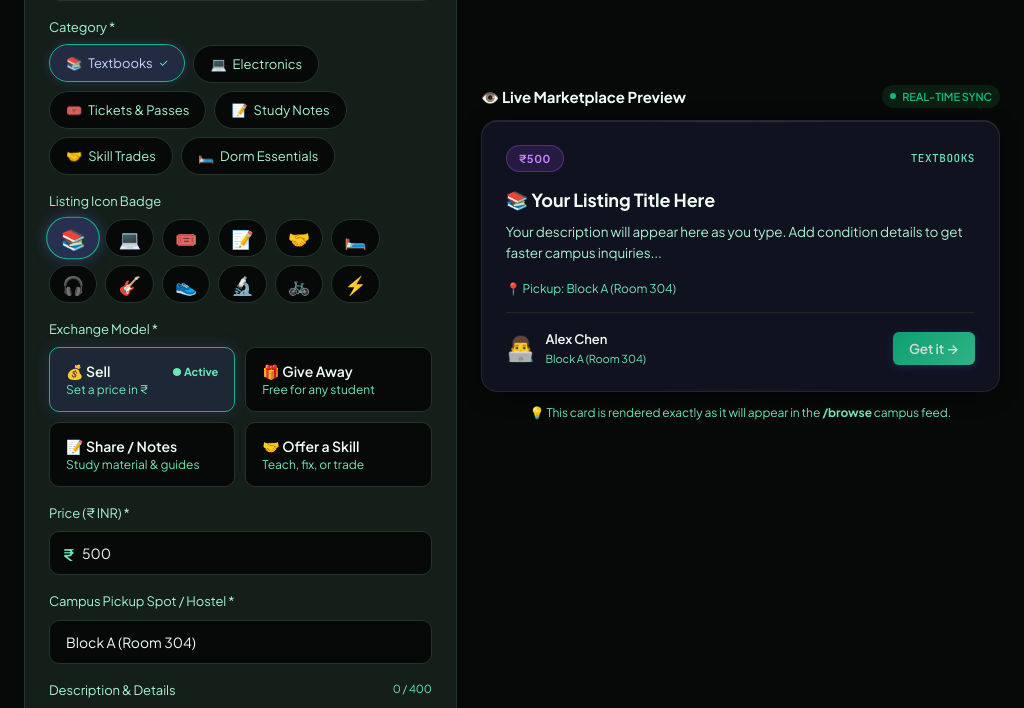
Test: ListItem Page Integration Suite › conditionally hides price input field when Give Away exchange model is selected
(page scrolled)
Check: the number field labelled "Price (₹ INR) *" is shown, box [49,531,432,575]
Click the button "🎁 Give Away Free for any student": (339, 380) [245,347,432,412]
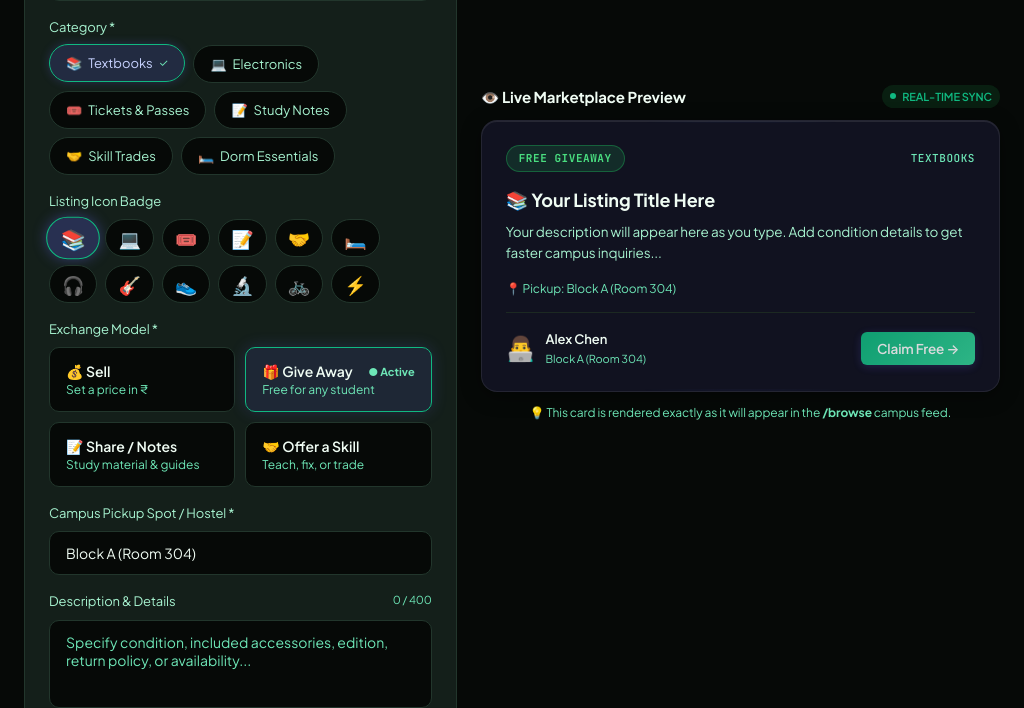
Check: the label labelled "Price (₹ INR)" is gone
Check: the text "FREE GIVEAWAY" is shown, box [506,145,625,172]
